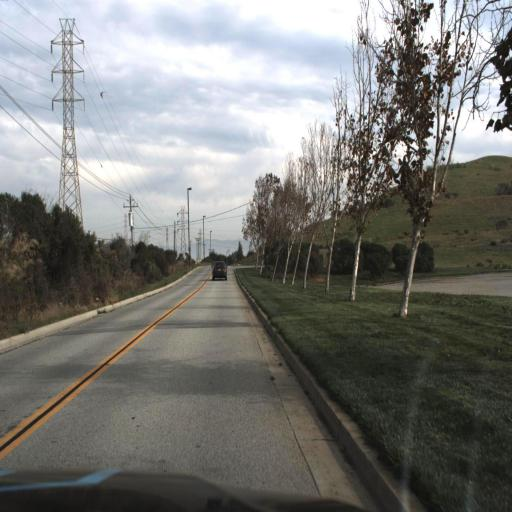car: (208, 254, 231, 288)
